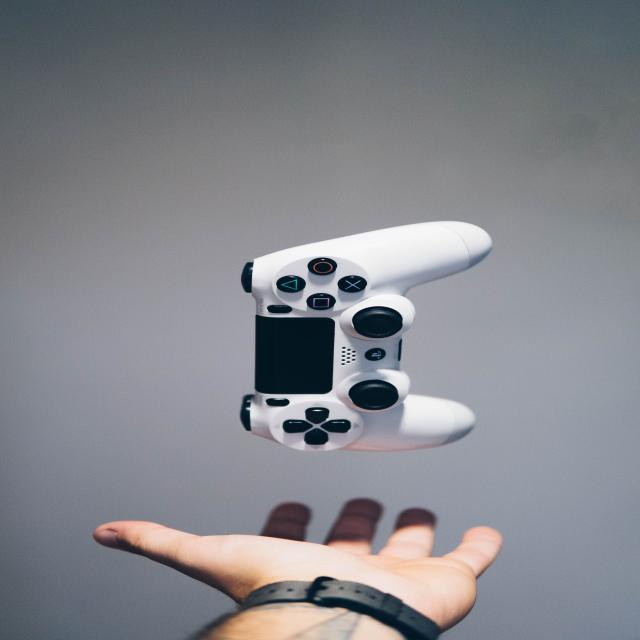Plastic: (111, 187, 559, 476)
